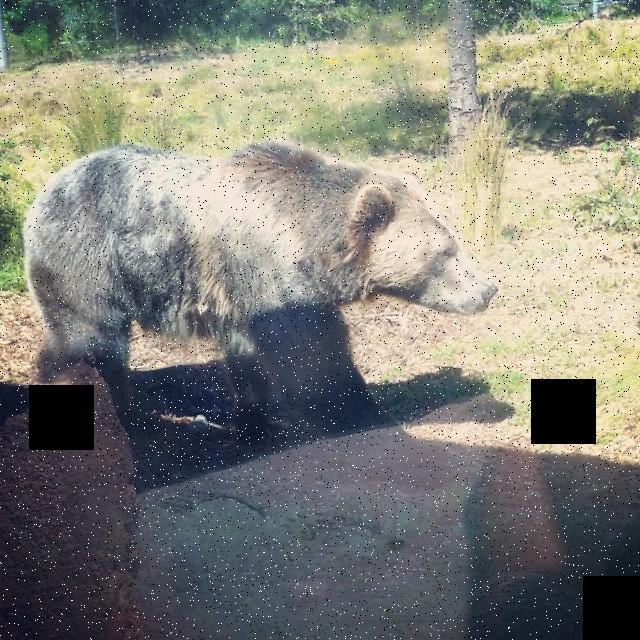Bear: (14, 134, 499, 440)
